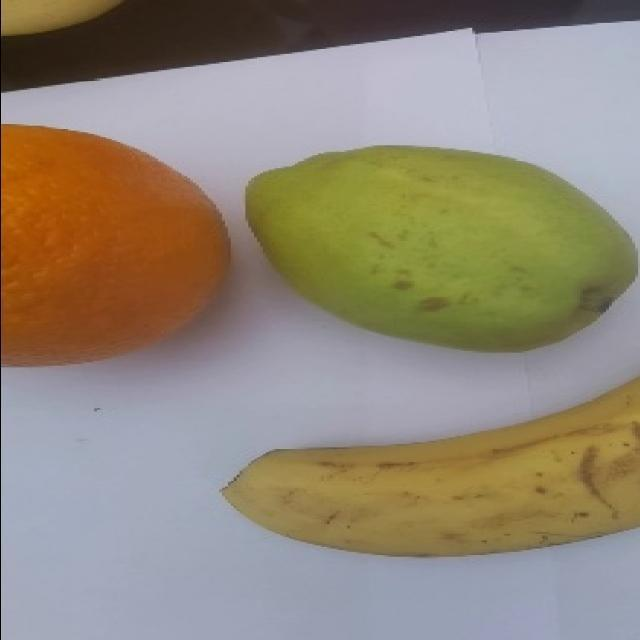Banana: (219, 375, 639, 557)
Orange: (0, 122, 231, 366)
